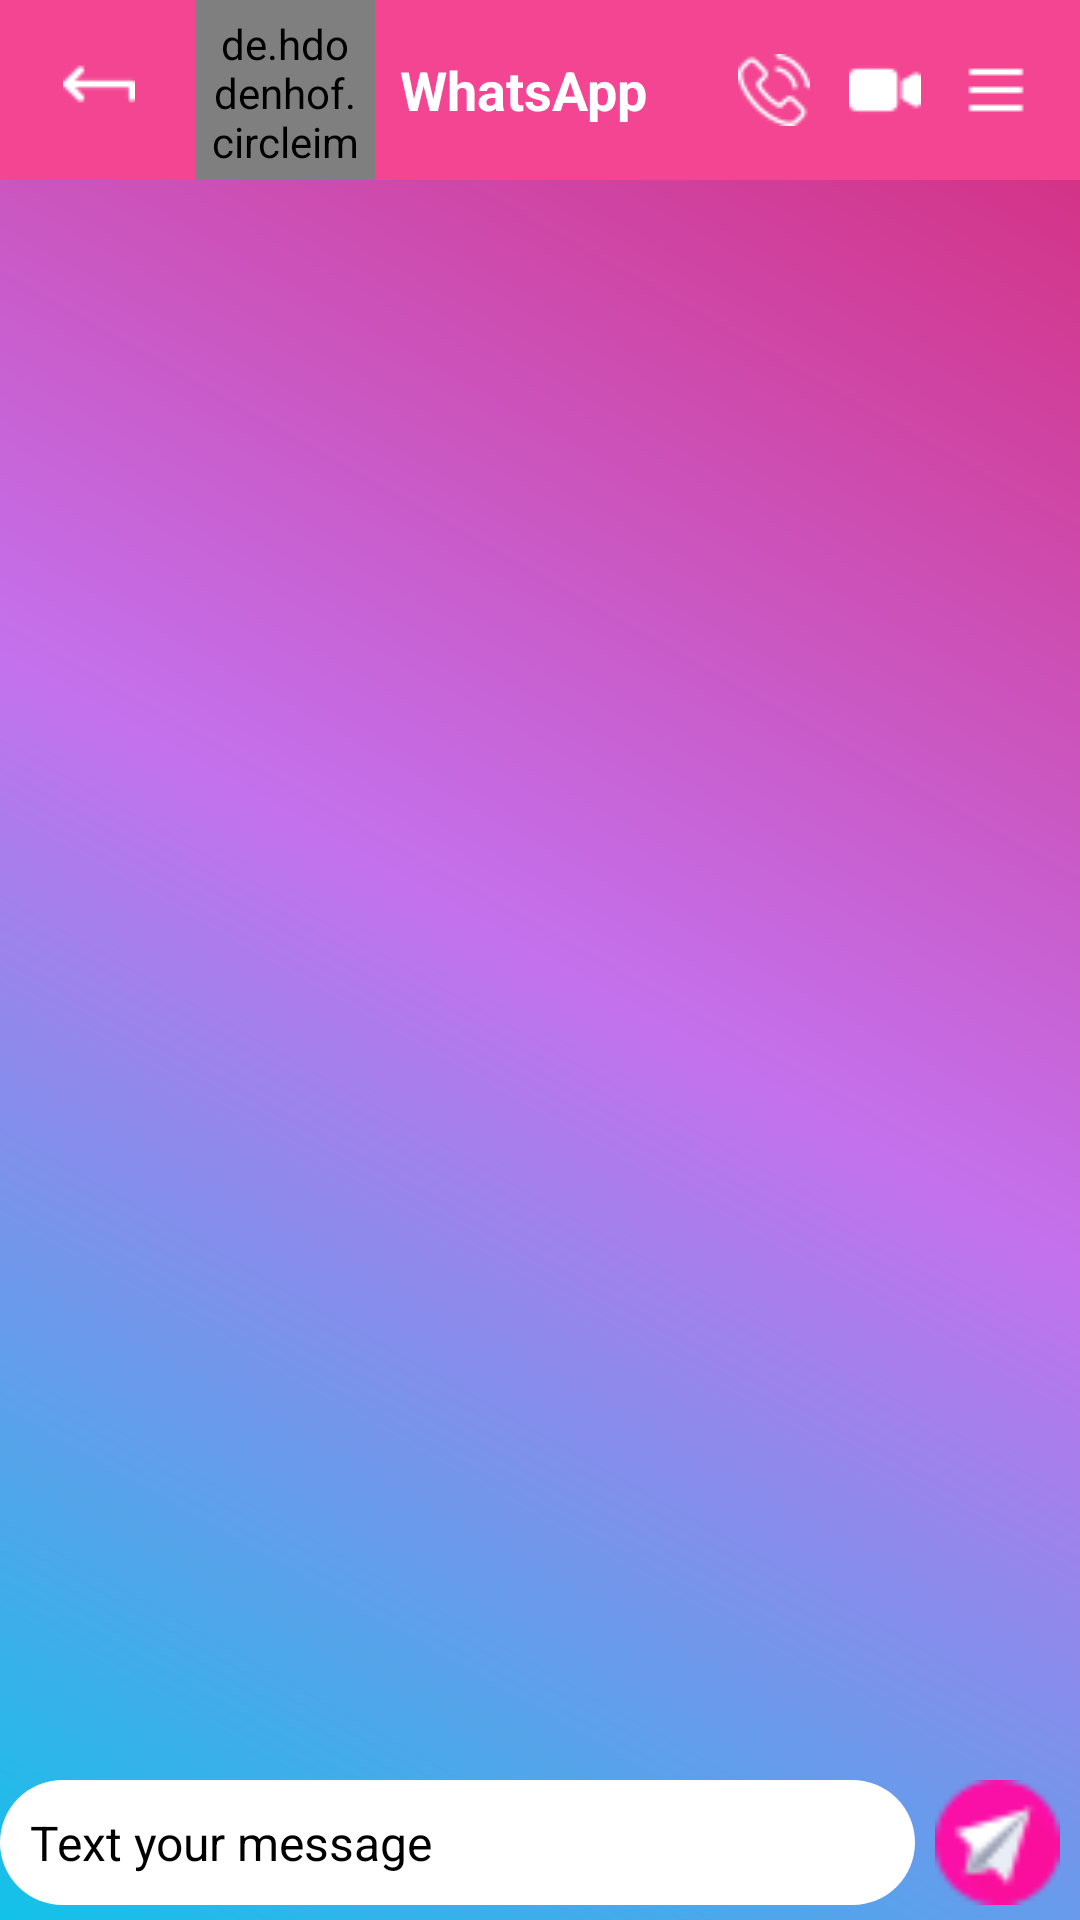

Named icons in this screenshot (1080×1920) and their bounding boxes, rect(x1, y1, x2, y2):
menus: rect(968, 68, 1024, 112)
phonscl: rect(738, 54, 810, 126)
sender: rect(935, 1780, 1060, 1905)
vidoecmr: rect(849, 68, 921, 112)
